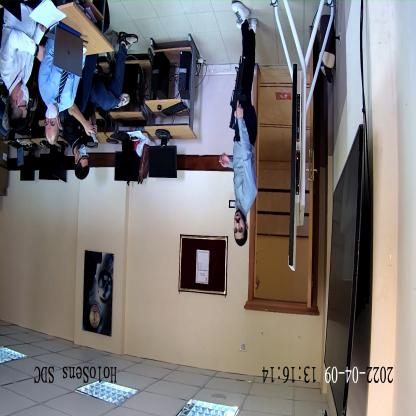handgun: (225, 60, 247, 134)
